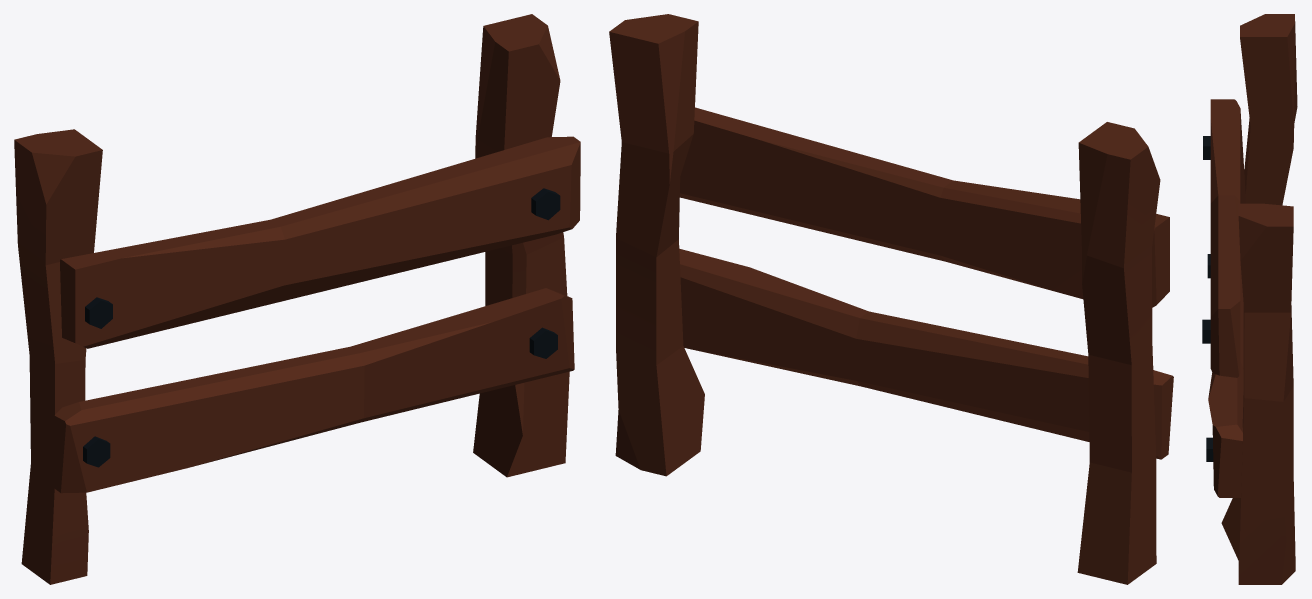
The model's file is Fence_3_1.fbx.
3 views of the same model, side by side, from view 1: azimuth 30°, elevation 25°; view 2: azimuth 150°, elevation 25°; view 3: azimuth 270°, elevation 25° (orthographic). The views are drawn at different scales.
Parts seen in each view (by area): view 1: Fence_3_1; view 2: Fence_3_1; view 3: Fence_3_1.
Boxes of the visible parts, x1,y1,x2,y2 form: Fence_3_1: [14, 14, 580, 584]; Fence_3_1: [609, 14, 1173, 584]; Fence_3_1: [1202, 14, 1297, 584].
Bounding box in the file's own units: 44.18 × 34.24 × 8.23.
